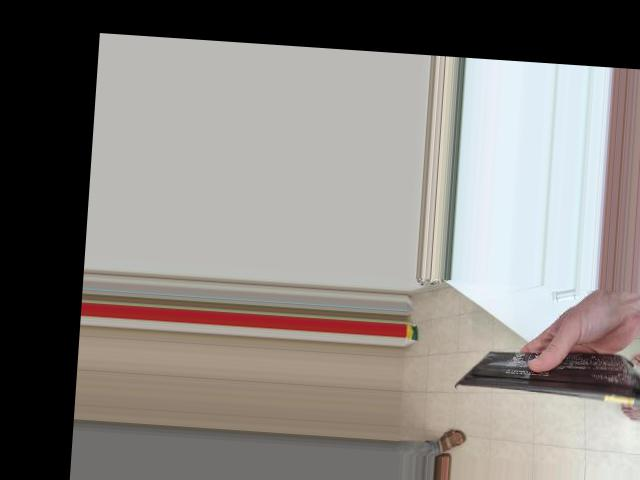chocolate: (470, 339, 640, 411)
